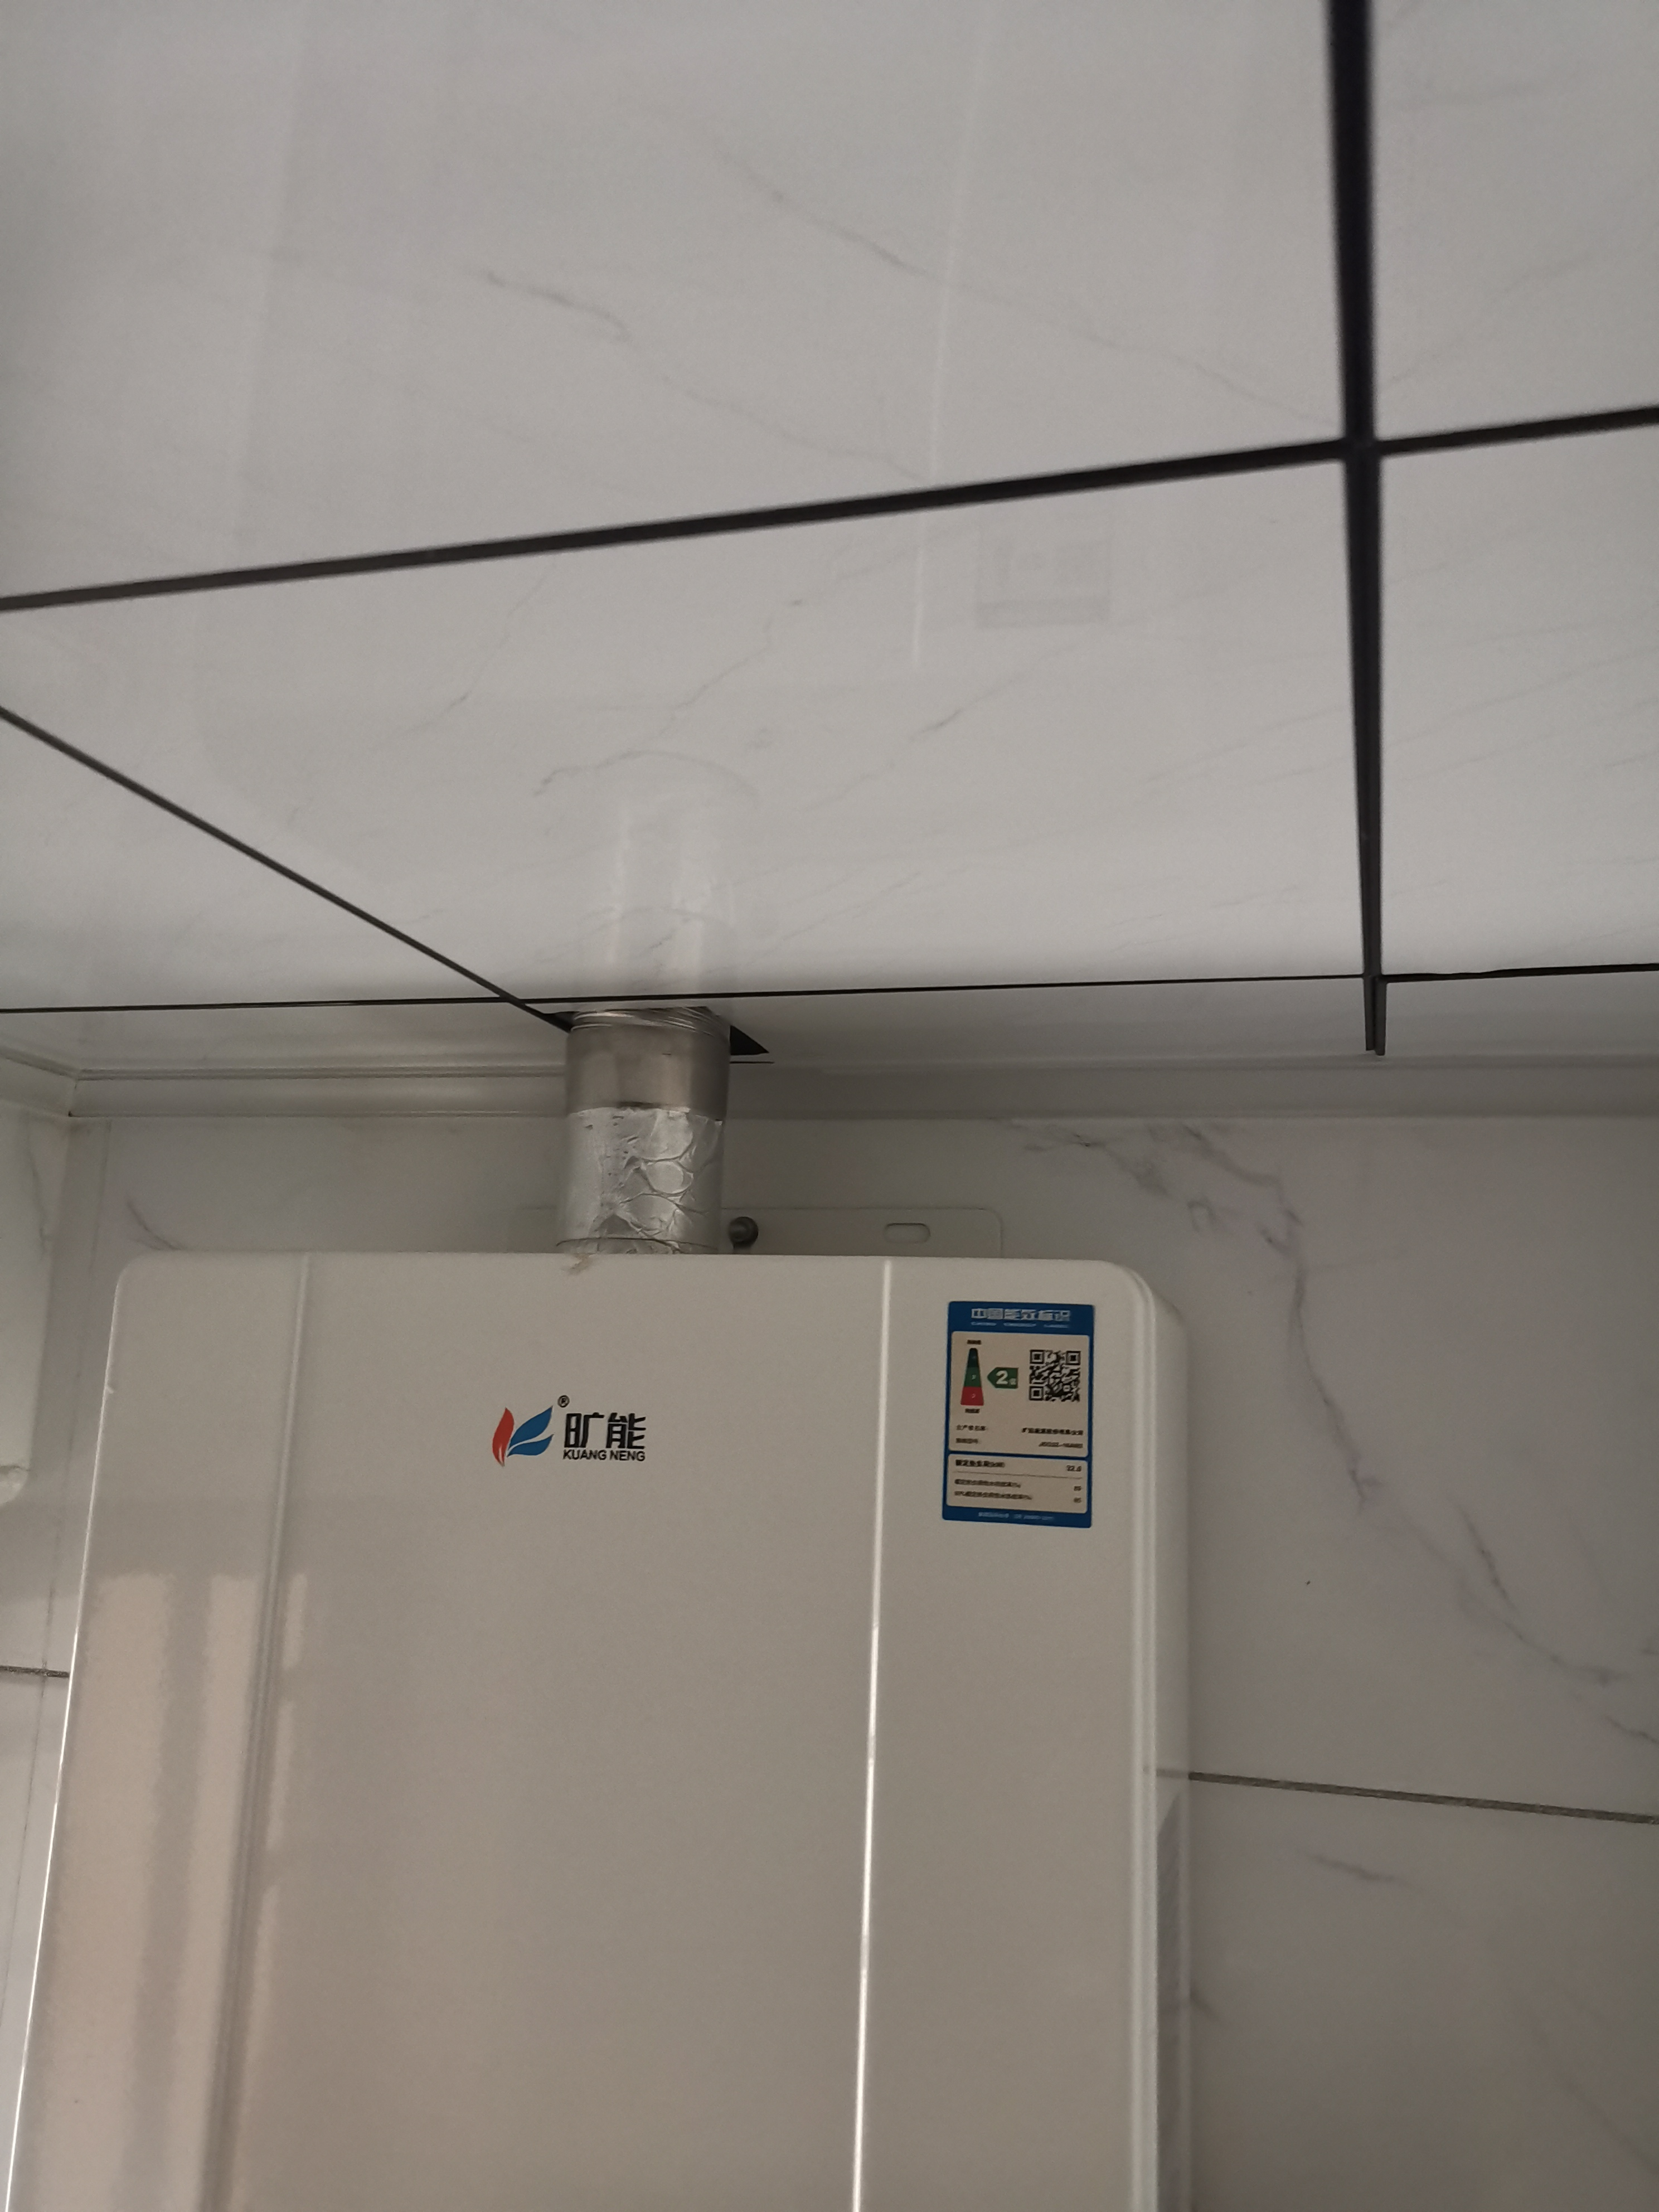loudou: (481, 1386, 674, 1479)
